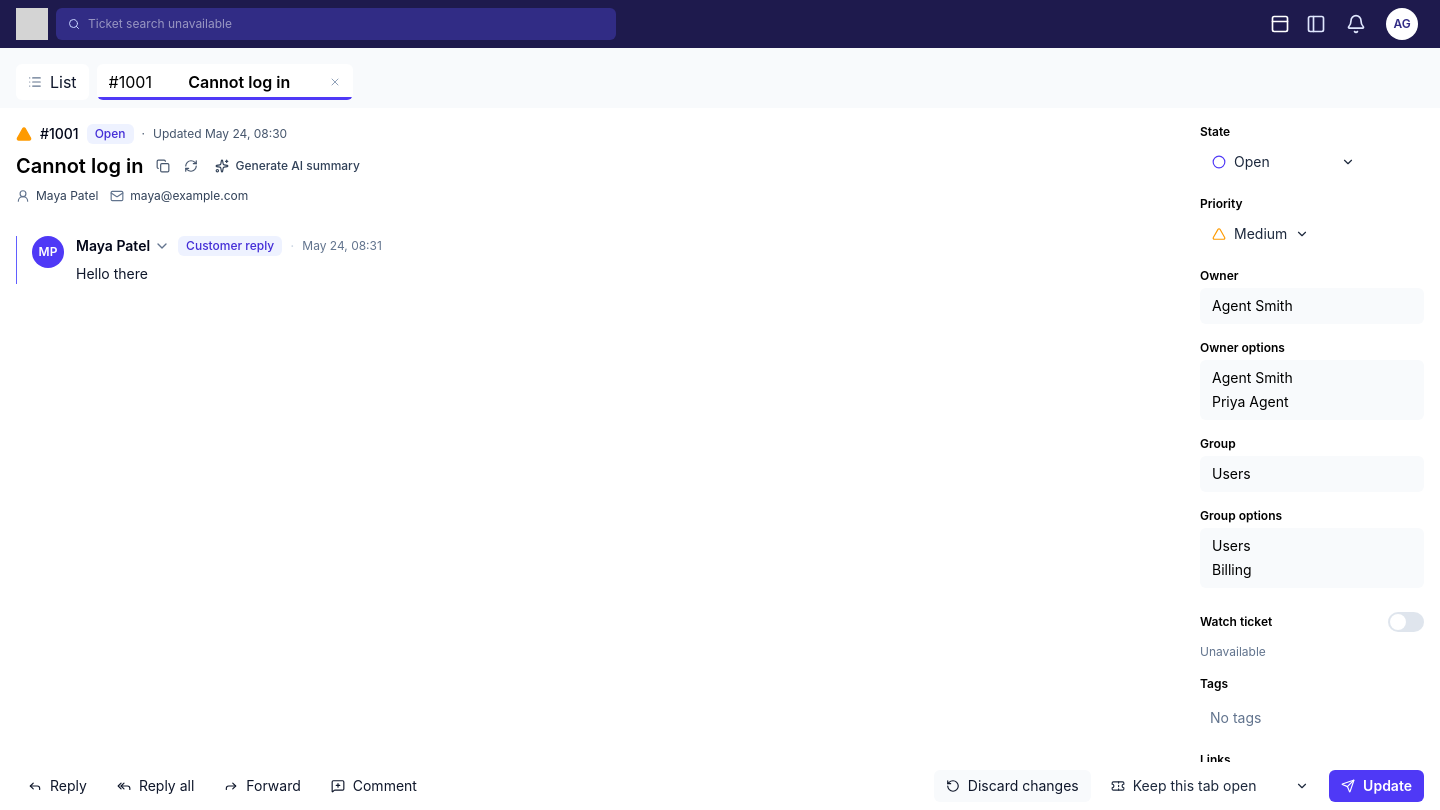
TicketWorkspace staged metadata edge cases › treats saved-refresh-failed as saved locally, not as save failure
Click the dropdown named "Ticket priority": click(1261, 234) [1200,216,1321,252]
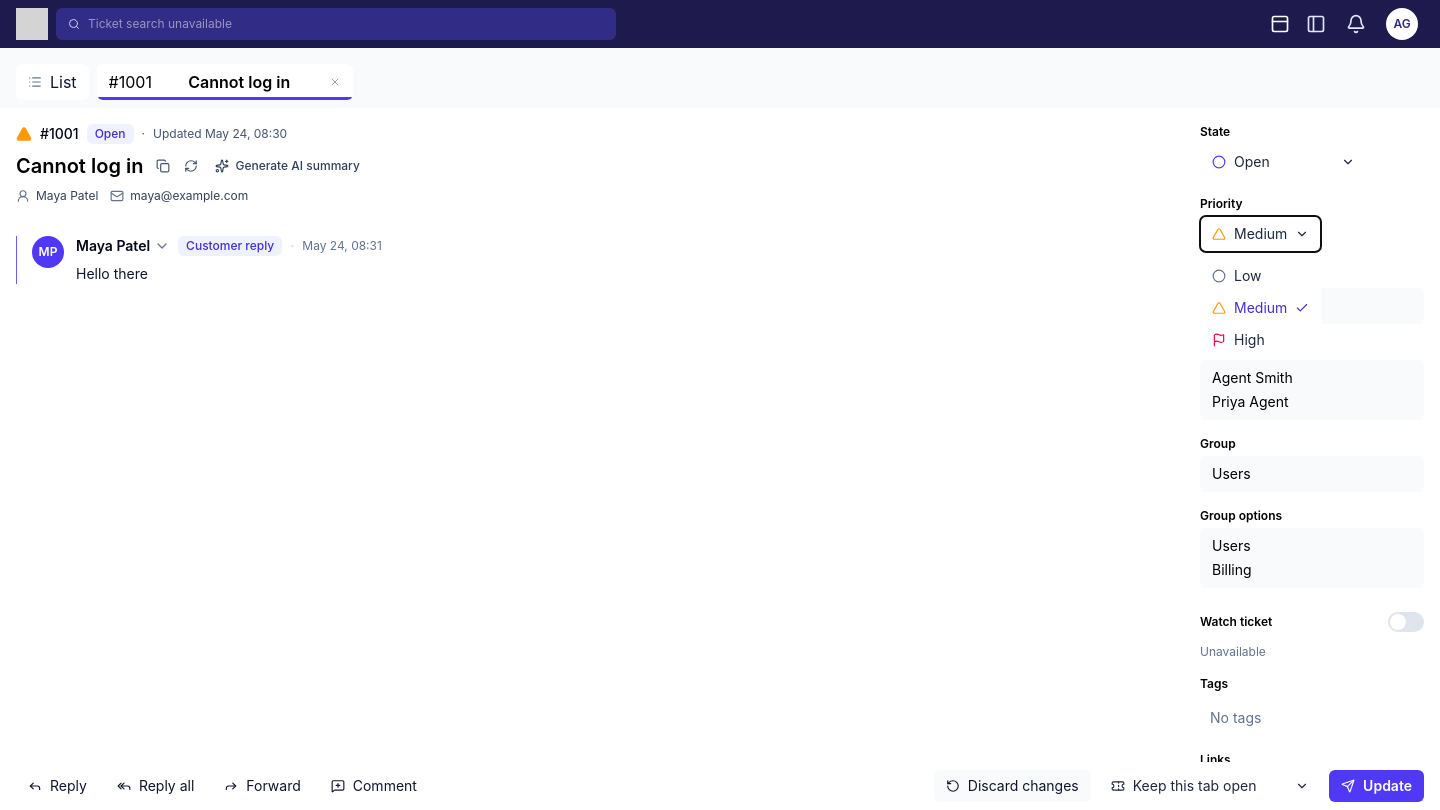
Click the option "High": click(1261, 340) [1204,324,1317,356]
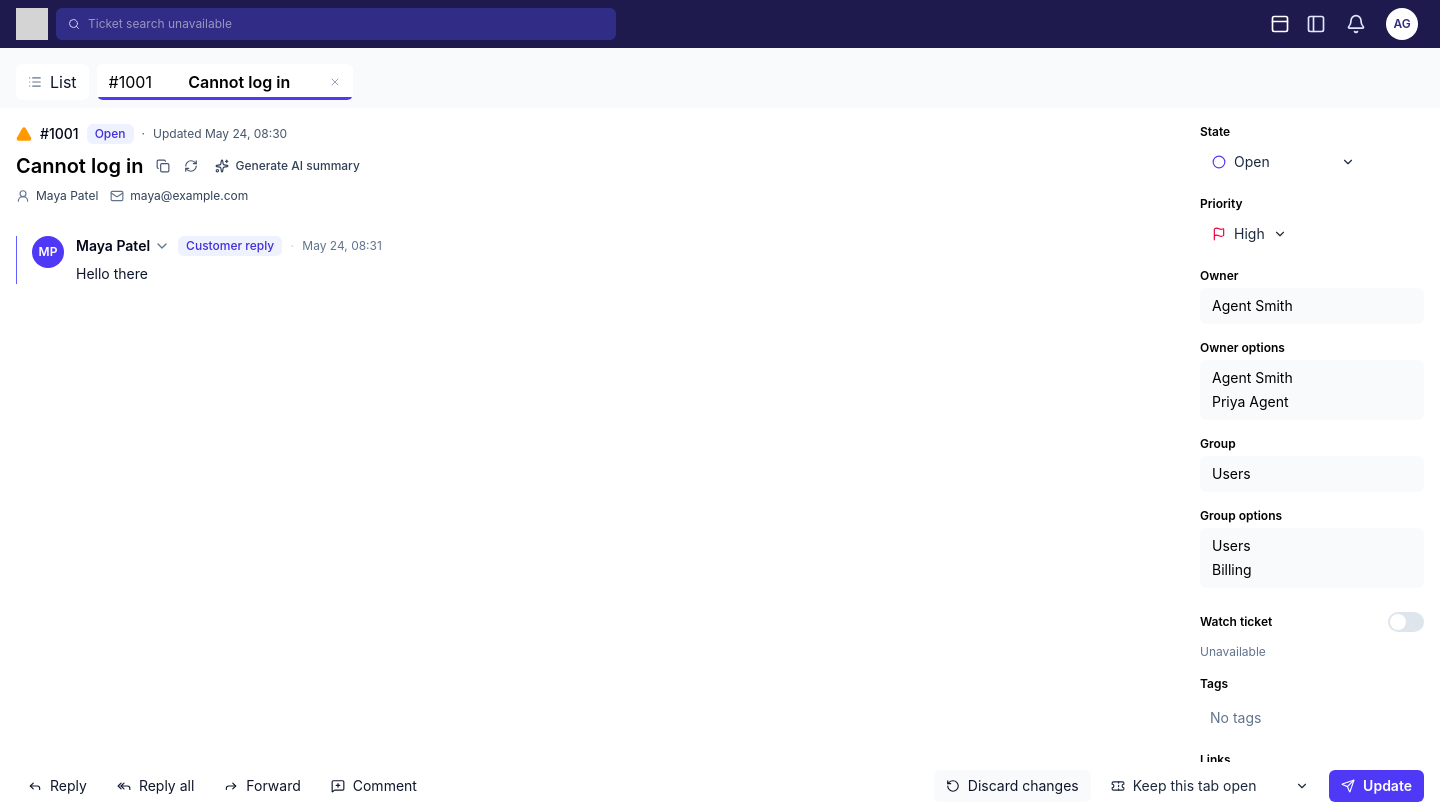
Click the button "Update": click(1377, 786) [1329,770,1424,802]
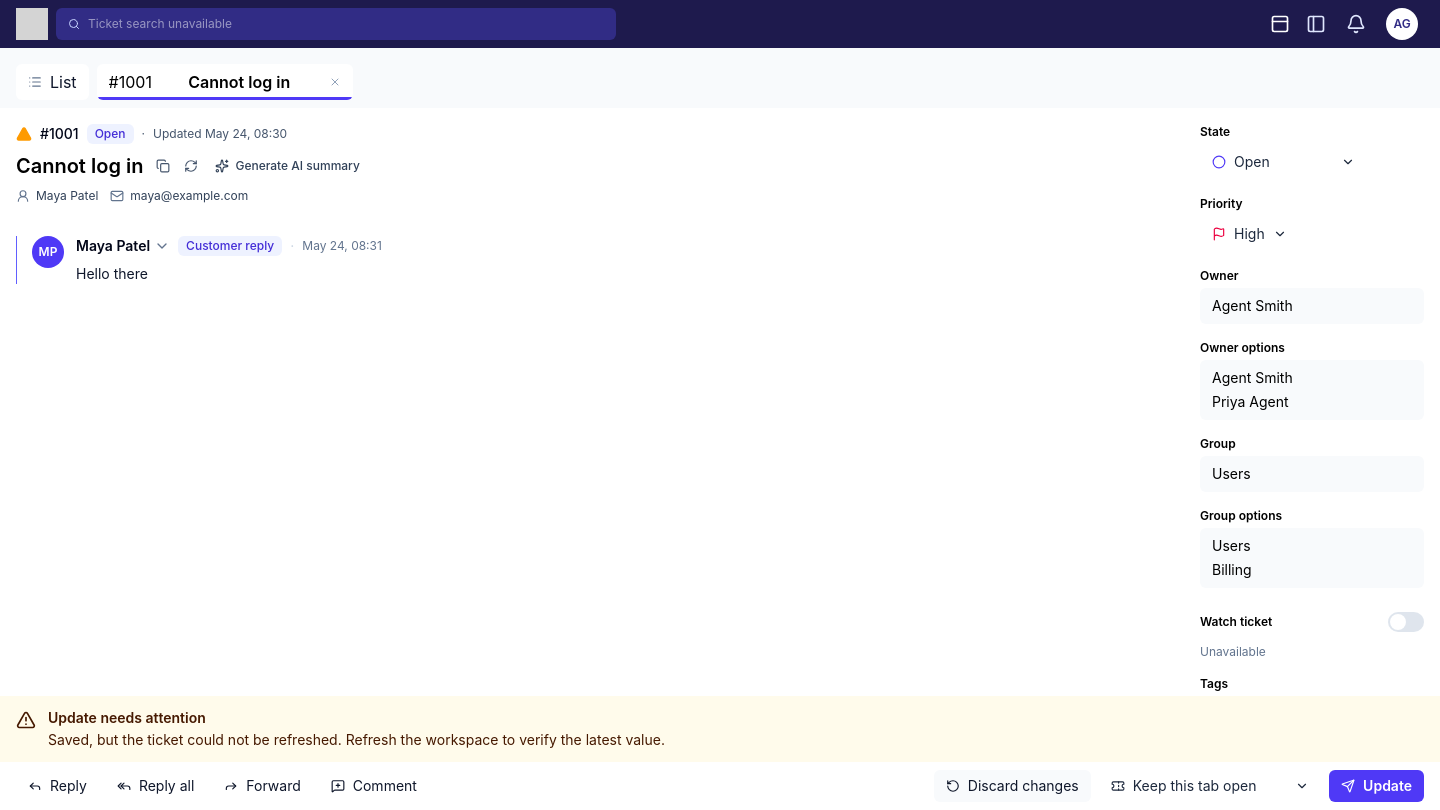
Now the dropdown named "Ticket priority" reads "High", box [1200,216,1299,252]
Now the text "Saved, but the ticket could not be refreshed. Refresh the workspace to verify the latest value." is shown, box [48,731,665,748]
